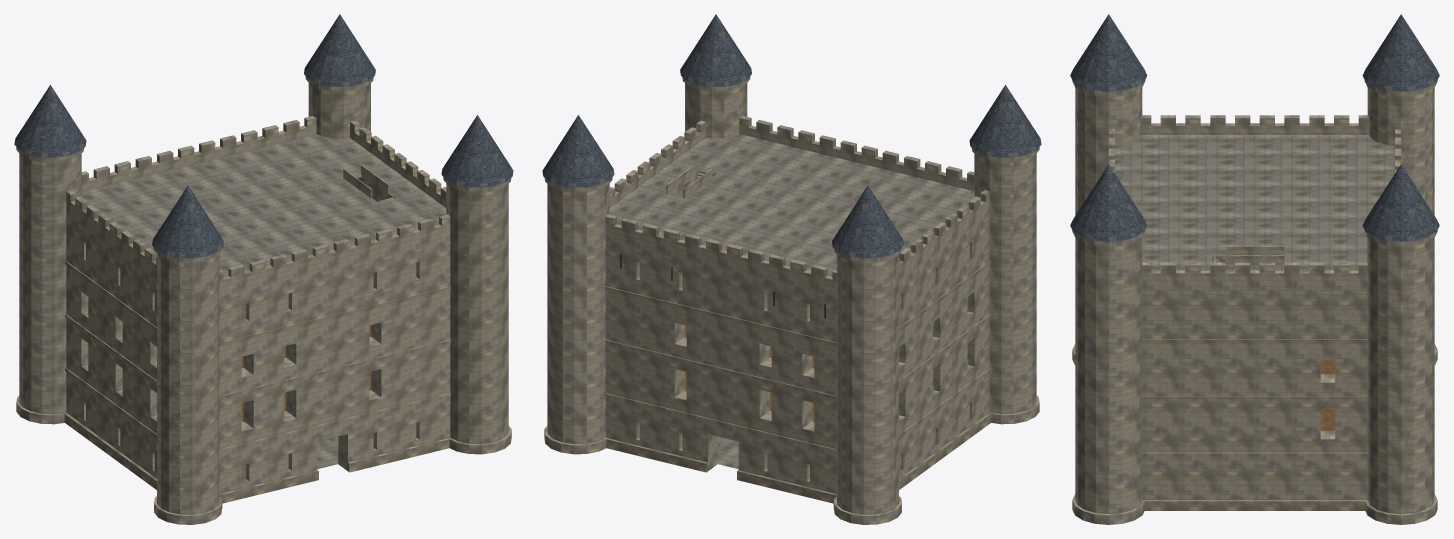
Rendered from fort-keep.zfix-v11d.lod0.glb.
3 renders of one model, left to right at view 1: azimuth 30°, elevation 25°; view 2: azimuth 150°, elevation 25°; view 3: azimuth 270°, elevation 25°, orthographic. The views are drawn at different scales.
Visible parts, largest first — view 1: fort-keep; view 2: fort-keep; view 3: fort-keep.
Part boxes in pixels (x1,y1,x2,y2): fort-keep: (14, 14, 513, 524); fort-keep: (542, 14, 1041, 524); fort-keep: (1070, 14, 1439, 524).
Bounding box in the file's own units: 41.4 × 36.52 × 35.4.
Materials: 5 (4 with a texture image).
